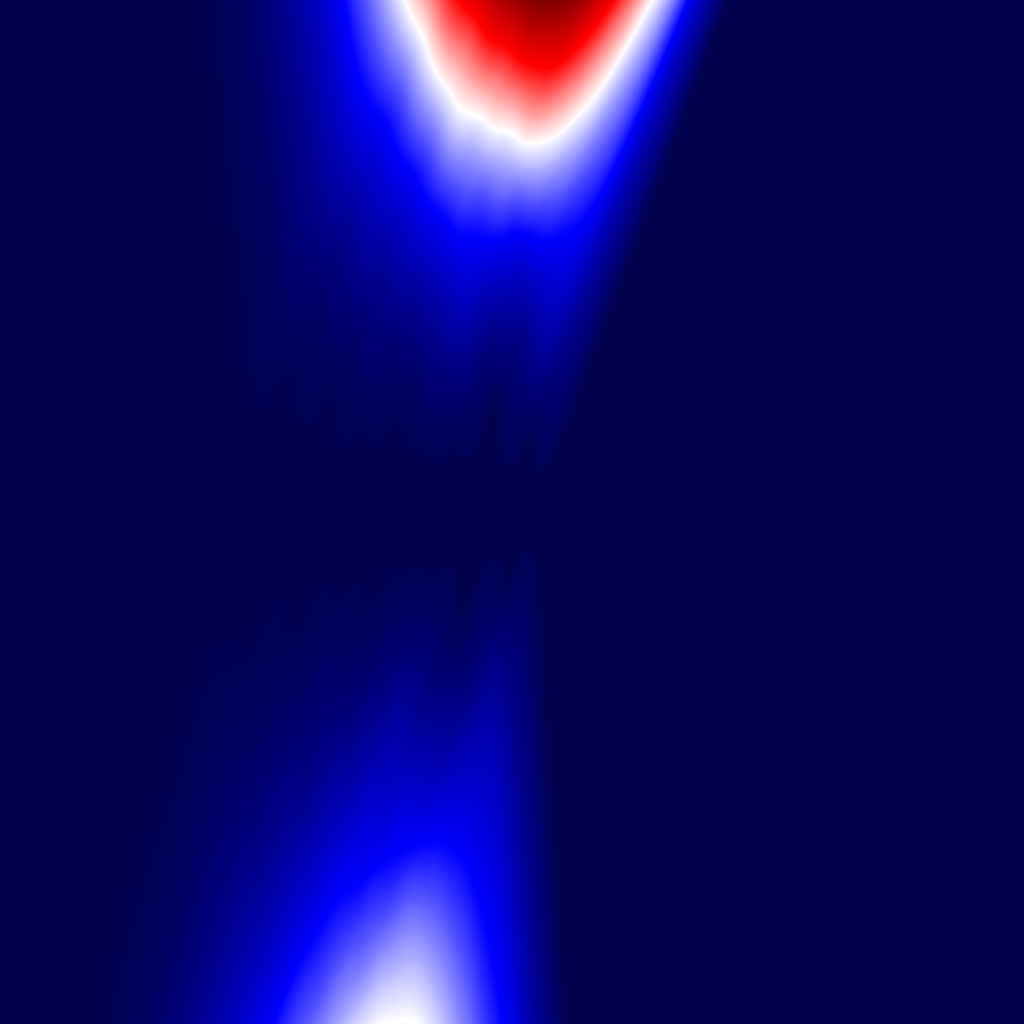diamond: (150, 293, 245, 731), (458, 400, 506, 624), (246, 402, 294, 622), (294, 410, 338, 614), (368, 421, 407, 603), (506, 439, 537, 585), (338, 444, 367, 580), (431, 453, 456, 571), (408, 459, 431, 565)
